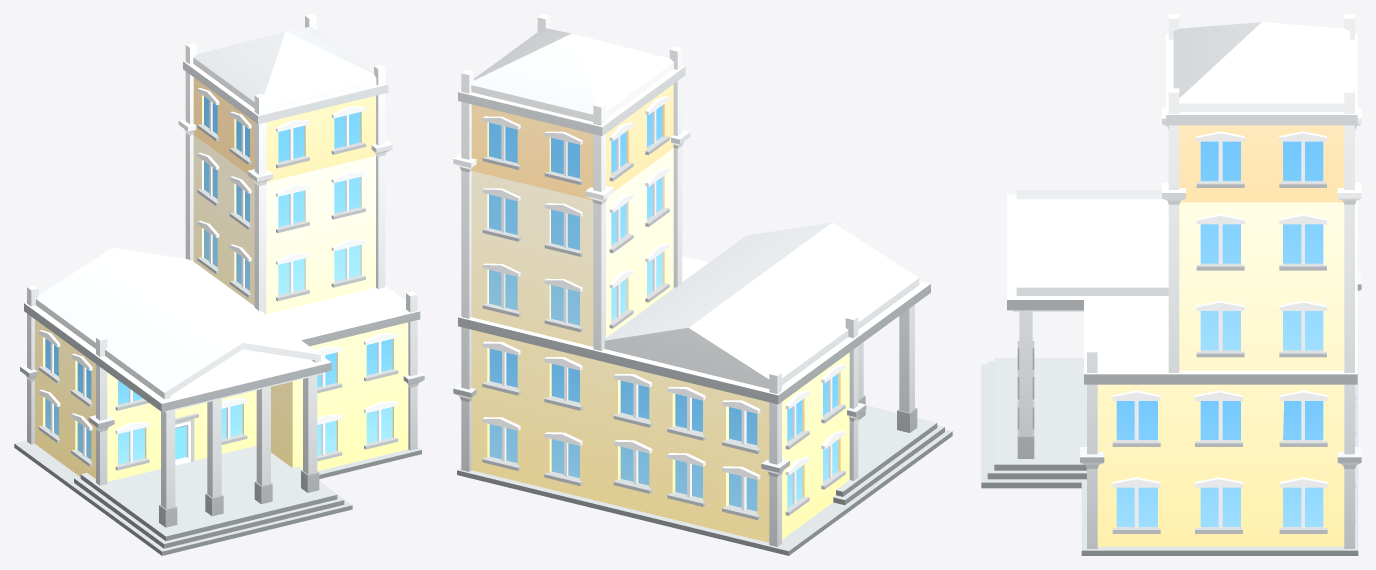
Rendered from Building_State_10.glb.
The picture shows the model from 3 angles, left to right: view 1: azimuth 30°, elevation 25°; view 2: azimuth 150°, elevation 25°; view 3: azimuth 270°, elevation 25°; orthographic projection. The views are drawn at different scales.
Parts seen in each view (by area): view 1: Building_State_10; view 2: Building_State_10; view 3: Building_State_10.
Part boxes in pixels (x1,y1,x2,y2): Building_State_10: [14, 14, 424, 555]; Building_State_10: [453, 14, 952, 555]; Building_State_10: [981, 14, 1361, 555].
Size of the model in its own units: 16.55 by 20.28 by 14.19.
Materials: 1 (1 with a texture image).
